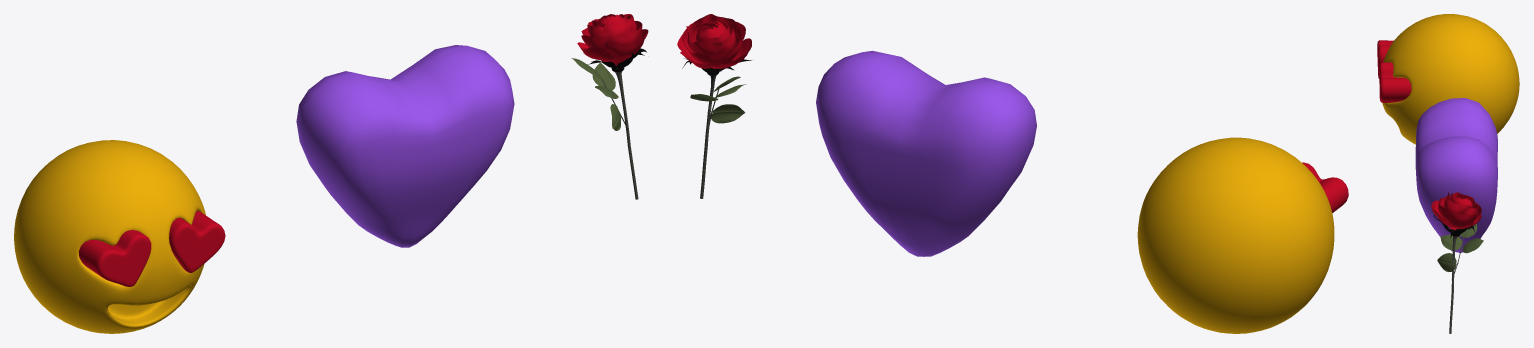
The model's file is emojis.glb.
3 renders of one model, left to right at view 1: azimuth 30°, elevation 25°; view 2: azimuth 150°, elevation 25°; view 3: azimuth 270°, elevation 25°, orthographic. The views are drawn at different scales.
Parts seen in each view (by area): view 1: Cube; view 2: Cube; view 3: Cube.
Part boxes in pixels (box(x1,y1,x2,y2)): Cube: box(14, 14, 648, 333); Cube: box(677, 14, 1348, 333); Cube: box(1377, 14, 1519, 333).
Size of the model in its own units: 2.02 by 0.5731 by 0.5545.
6 materials, 2 textured.
